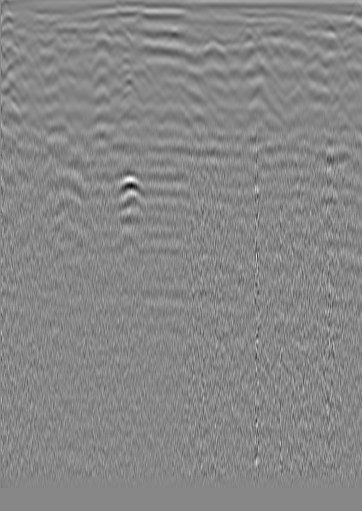가스: (109, 170, 145, 204)
상수: (26, 11, 46, 31)
오수: (320, 19, 340, 39)
우수: (163, 25, 183, 45)
